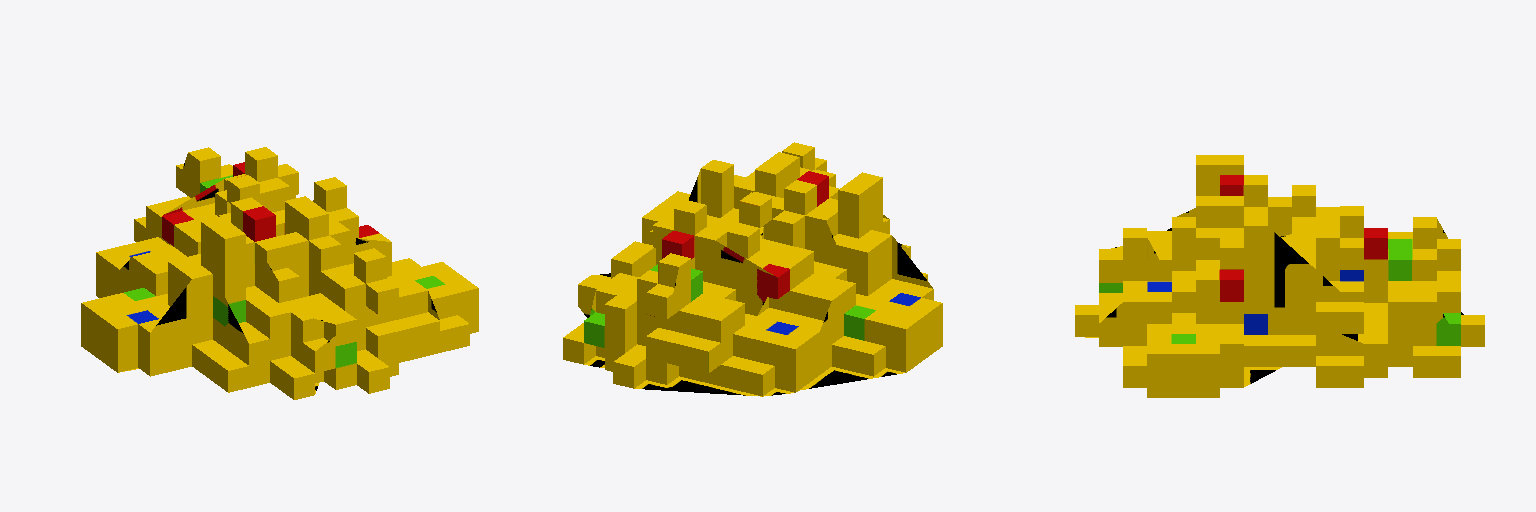
3 views of the same model, side by side, from view 1: azimuth 30°, elevation 25°; view 2: azimuth 150°, elevation 25°; view 3: azimuth 270°, elevation 25° (orthographic).
Parts seen in each view (by area): view 1: Treasure_Medium_Treasure_Medium.001; view 2: Treasure_Medium_Treasure_Medium.001; view 3: Treasure_Medium_Treasure_Medium.001.
Boxes of the visible parts, x1=… form: Treasure_Medium_Treasure_Medium.001: x1=81, y1=147, x2=478, y2=399; Treasure_Medium_Treasure_Medium.001: x1=563, y1=142, x2=942, y2=396; Treasure_Medium_Treasure_Medium.001: x1=1075, y1=155, x2=1484, y2=397.
Size of the model in its own units: 1.5 by 0.6 by 1.7.
1 materials, 1 textured.